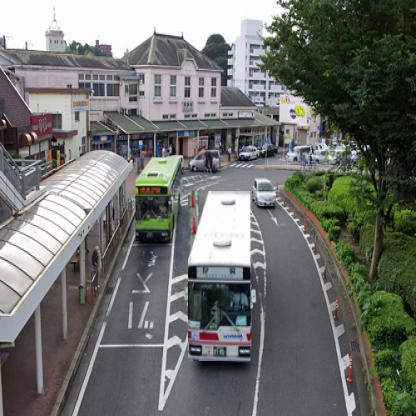bus: (189, 192, 252, 363), (136, 159, 182, 244)
car: (255, 177, 276, 205), (192, 150, 221, 170), (288, 146, 311, 165), (329, 147, 352, 166), (243, 146, 258, 162), (314, 149, 329, 165)
